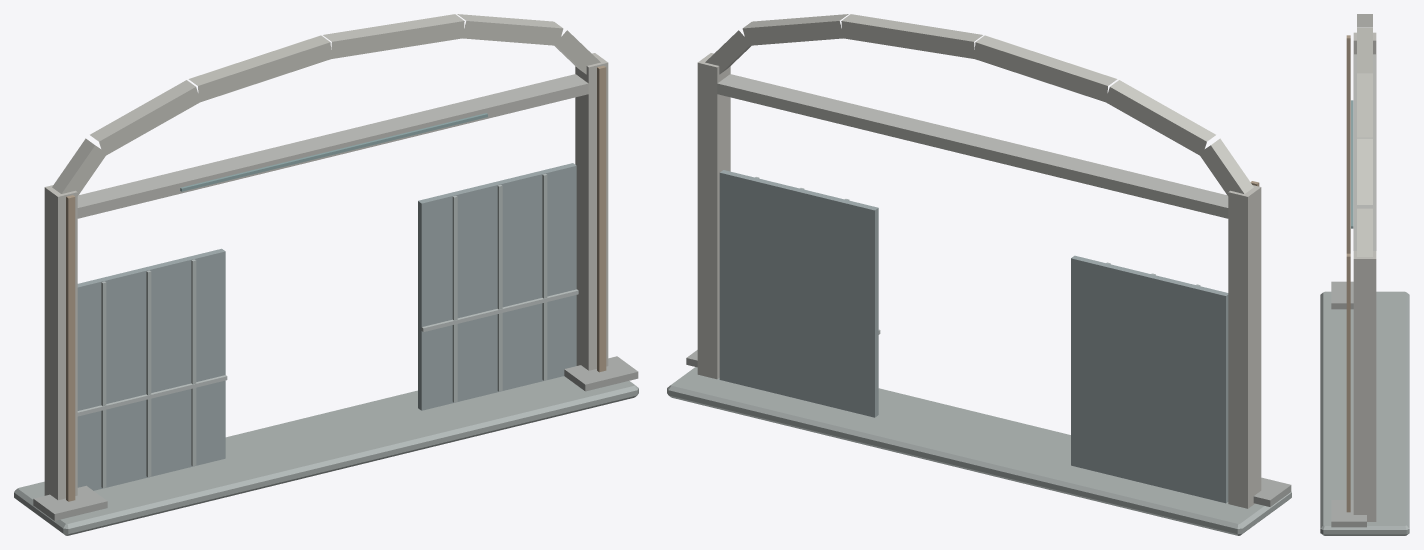
Rendered from arrivalAtrium.glb.
3 views of the same model, side by side, from view 1: azimuth 30°, elevation 25°; view 2: azimuth 150°, elevation 25°; view 3: azimuth 270°, elevation 25° (orthographic). The views are drawn at different scales.
Visible parts, largest first — view 1: arrivalAtrium; view 2: arrivalAtrium; view 3: arrivalAtrium.
Boxes of the visible parts, x1,y1,x2,y2 form: arrivalAtrium: (14,14,638,535); arrivalAtrium: (667,14,1291,535); arrivalAtrium: (1320,14,1409,535).
Bounding box in the file's own units: 14.3 × 9.6 × 2.25.
